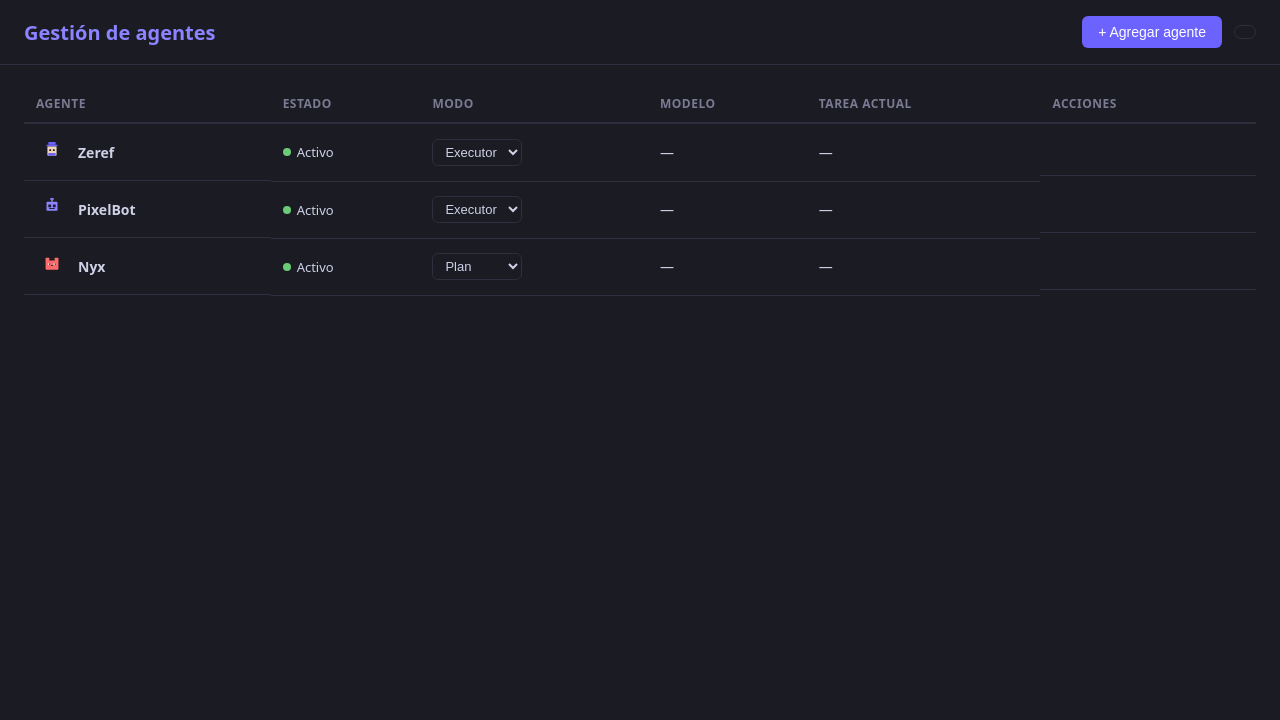
Test: AgentDetailView › opens create modal when add button clicked
Click the button "+ Agregar agente": (1152, 32) [1082,16,1222,48]
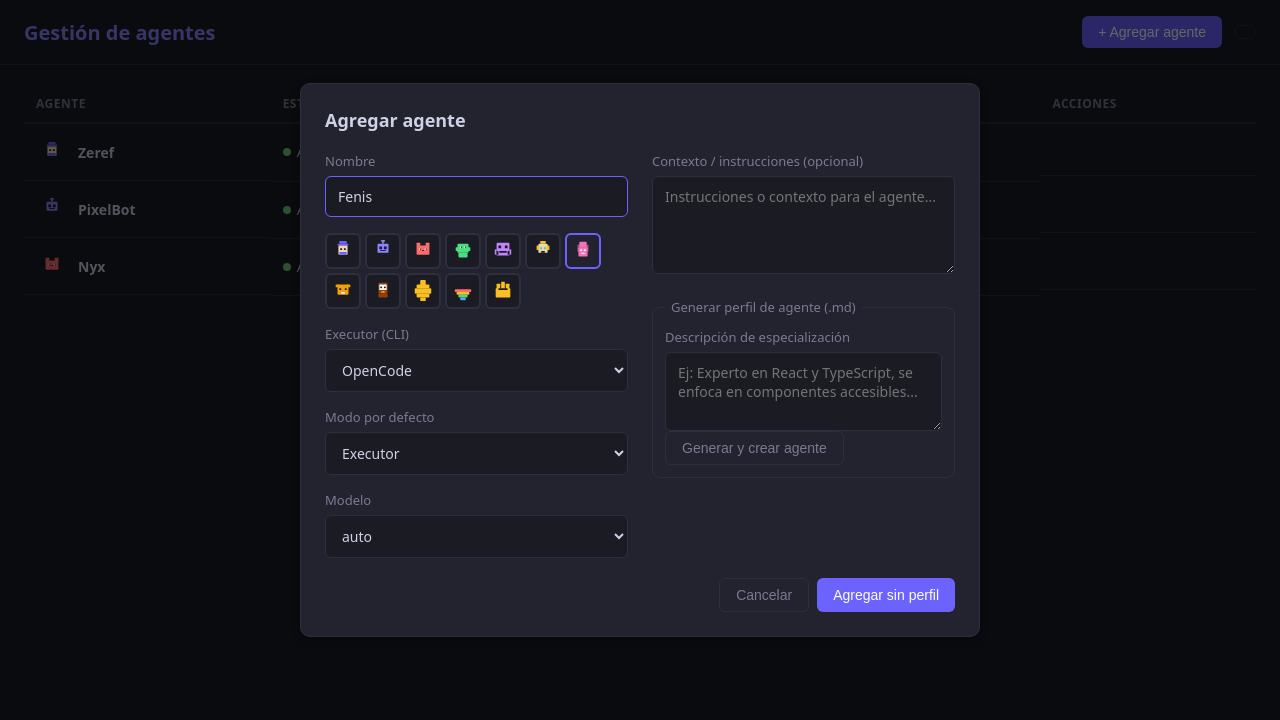
Result: the field with placeholder "Nombre del agente" is shown at [325,176,628,217]
